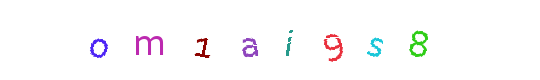0: (58, 0, 138, 80)
1: (163, 0, 243, 80)
8: (378, 0, 458, 80)
9: (291, 0, 371, 80)
A: (230, 0, 310, 80)
I: (237, 0, 317, 80)
M: (149, 0, 229, 80)
S: (303, 0, 383, 80)
